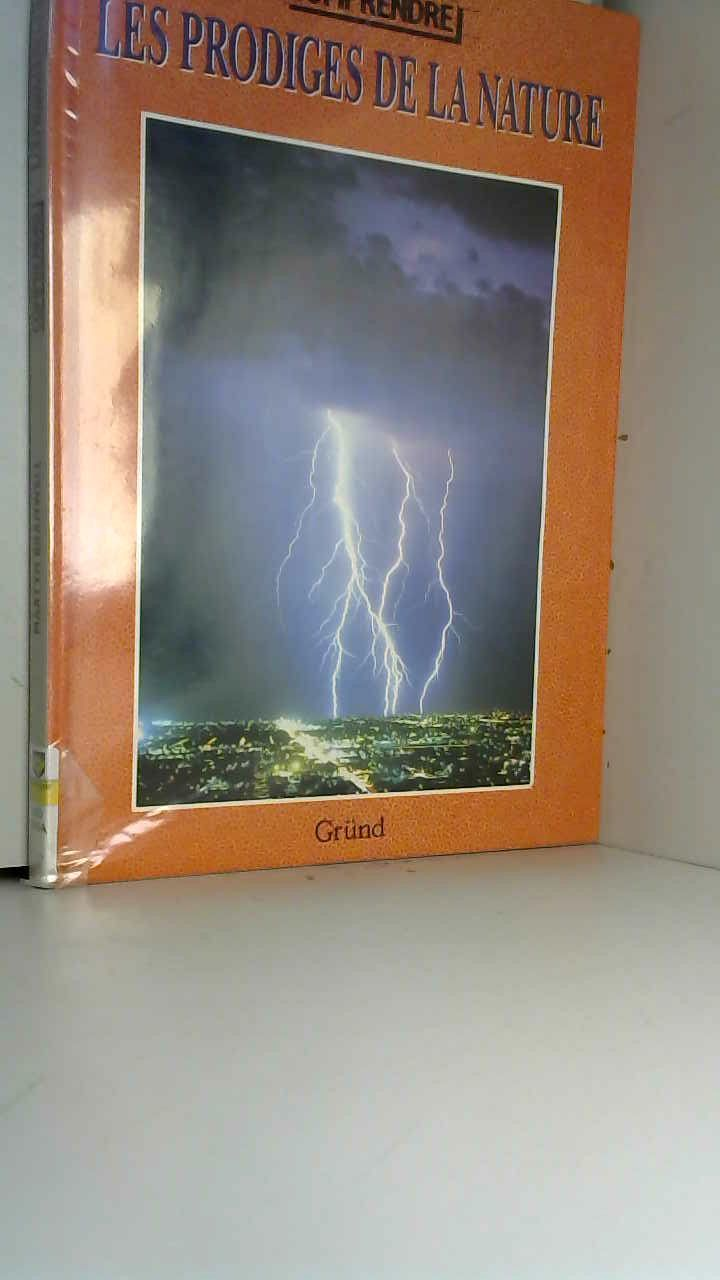book: (8, 0, 648, 931)
